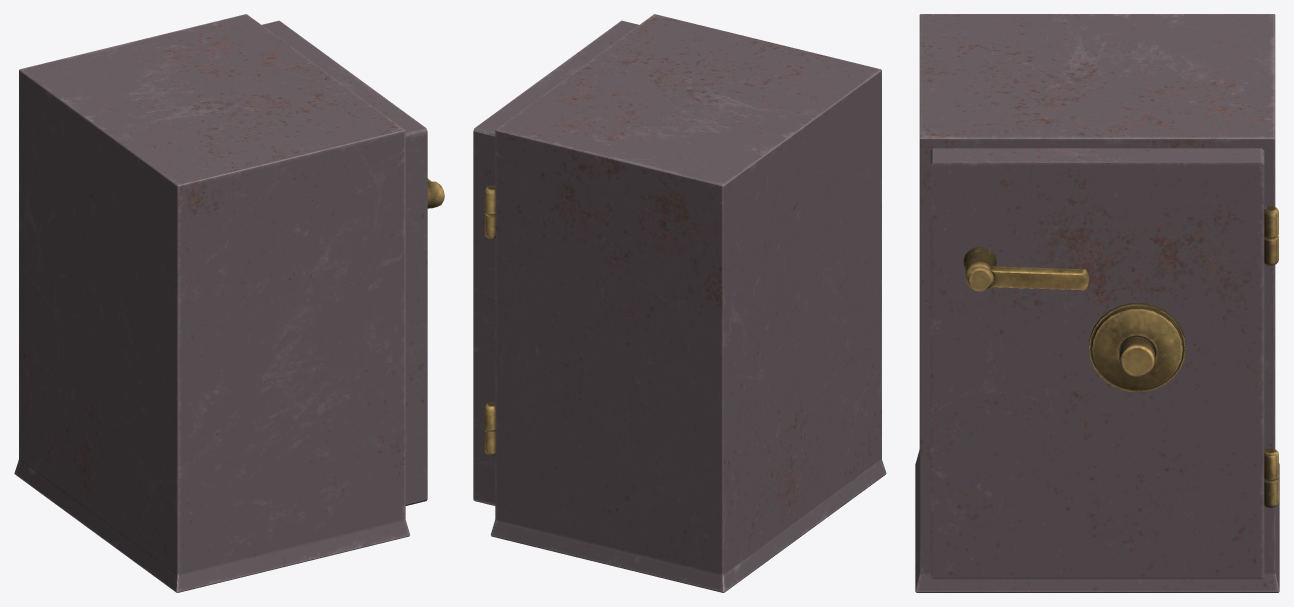
Rendered from safe.glb.
The picture shows the model from 3 angles, left to right: view 1: azimuth 30°, elevation 25°; view 2: azimuth 150°, elevation 25°; view 3: azimuth 270°, elevation 25°; orthographic projection. The views are drawn at different scales.
Parts seen in each view (by area): view 1: Cube, Cube.001; view 2: Cube, Cube.001, Cylinder.001, Cylinder; view 3: Cube.001, Cube, Cylinder.002, Cylinder.003, Cylinder, Cylinder.001.
Part boxes in pixels (box(x1,y1,x2,y2)): Cube: box(14, 14, 409, 592); Cube.001: box(262, 20, 427, 505); Cube: box(491, 14, 886, 592); Cube.001: box(473, 20, 638, 505); Cylinder.001: box(484, 185, 495, 238); Cylinder: box(484, 402, 495, 455); Cube.001: box(930, 148, 1264, 579); Cube: box(915, 14, 1279, 592); Cylinder.002: box(1089, 303, 1185, 392); Cylinder.003: box(963, 247, 1089, 291); Cylinder: box(1264, 448, 1278, 507); Cylinder.001: box(1264, 206, 1278, 265).
Bounding box in the file's own units: 0.8189 × 1.07 × 0.7818.
1 material, 1 textured.
